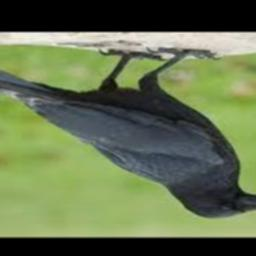Crow: (0, 48, 256, 219)
